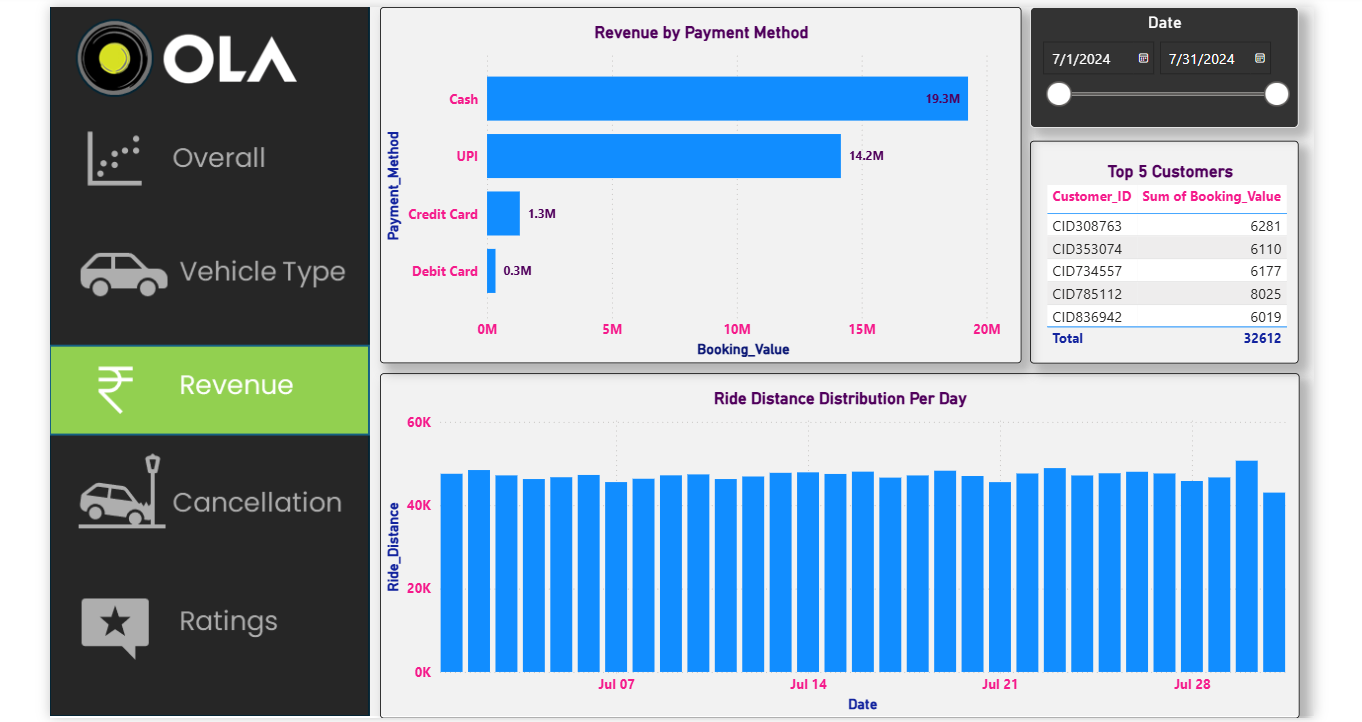

Layout of this report page (visuals, bound fields, positions):
{"tool":"powerbi","page":{"name":"Revenue","canvas":[1280,720],"ordinal":2},"visuals":[{"type":"actionButton","box":[0,220.9,323.9,92],"z":0},{"type":"actionButton","box":[0,446.6,323.9,92],"z":1000},{"type":"actionButton","box":[0,576.7,323.9,92],"z":2000},{"type":"actionButton","box":[0,108,323.9,92],"z":3000},{"type":"barChart","title":"Revenue by Payment Method","fields":{"Category":["July.Payment_Method"],"Y":["Sum(July.Booking_Value)"]},"box":[333.8,0,649.3,360.6],"z":4000},{"type":"columnChart","title":"Ride Distance Distribution Per Day","fields":{"Category":["July.Date"],"Y":["Sum(July.Ride_Distance)"]},"box":[333.8,370.4,931,349.3],"z":5000},{"type":"slicer","title":"Date","fields":{"Values":["July.Date"]},"box":[993,0,271.8,122.5],"z":6000},{"type":"tableEx","title":"Top 5 Customers","fields":{"Values":["July.Customer_ID","Sum(July.Booking_Value)"]},"box":[993,135.2,271.8,225.4],"z":7000}]}

Visuals, with their boxes on the page's 1280x720 design canvas (x1, y1, x2, y2). These are canvas units, not pixel positions in the 1362x722 screenshot, which may show the page scaled, cropped or inside an application window:
actionButton: l=0, t=221, r=324, b=313
actionButton: l=0, t=447, r=324, b=539
actionButton: l=0, t=577, r=324, b=669
actionButton: l=0, t=108, r=324, b=200
"Revenue by Payment Method" barChart: l=334, t=0, r=983, b=361
"Ride Distance Distribution Per Day" columnChart: l=334, t=370, r=1265, b=720
"Date" slicer: l=993, t=0, r=1265, b=122
"Top 5 Customers" tableEx: l=993, t=135, r=1265, b=361
